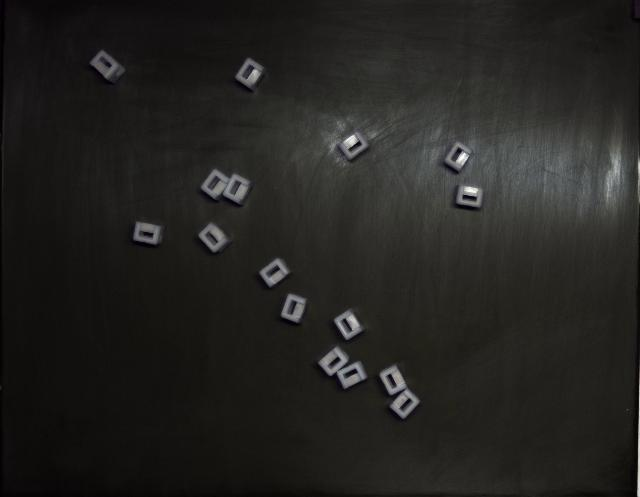fourth_side: (90, 50, 125, 84), (235, 58, 266, 91), (199, 222, 232, 253), (222, 174, 254, 205), (334, 309, 364, 340), (318, 346, 349, 376), (259, 259, 291, 288), (336, 361, 368, 390), (379, 364, 408, 396), (202, 168, 228, 203), (390, 389, 420, 419), (339, 131, 369, 160), (280, 294, 308, 324), (445, 141, 472, 172), (132, 221, 165, 245), (456, 185, 484, 209)
